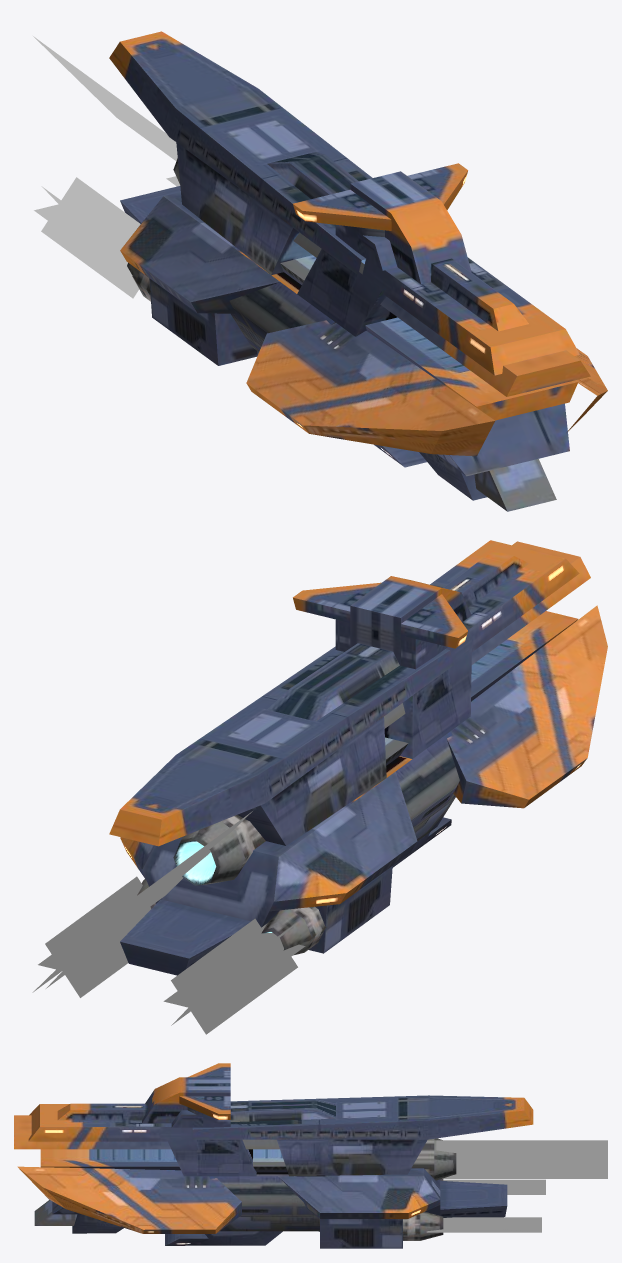
3 renders of one model, top to bottom at view 1: azimuth 30°, elevation 25°; view 2: azimuth 150°, elevation 25°; view 3: azimuth 270°, elevation 25°, orthographic. The views are drawn at different scales.
Parts seen in each view (by area): view 1: warship-type-f-lod1; view 2: warship-type-f-lod1; view 3: warship-type-f-lod1.
Boxes of the visible parts, left/top/right/bottom form: warship-type-f-lod1: left=33, top=31, right=607, bottom=511; warship-type-f-lod1: left=32, top=540, right=607, bottom=1034; warship-type-f-lod1: left=14, top=1063, right=607, bottom=1248.
Bounding box in the file's own units: 22.57 × 18.63 × 65.18.
Materials: 2 (1 with a texture image).
